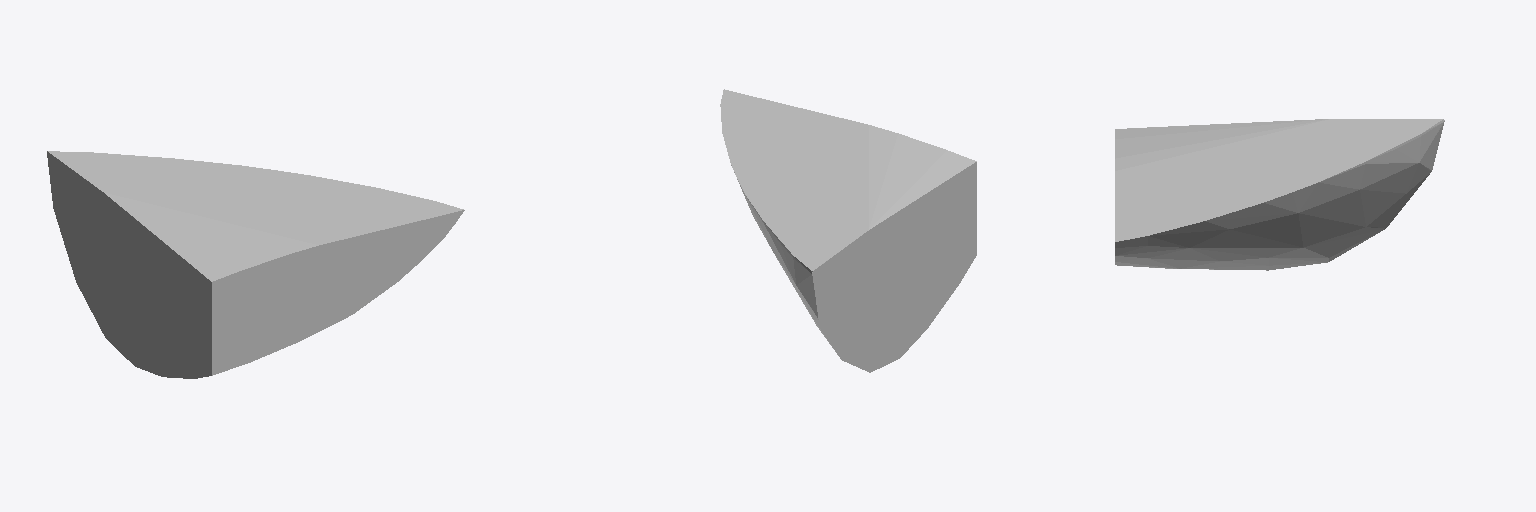
The model's file is phantom-elastrat_collision_105.obj.
3 renders of one model, left to right at view 1: azimuth 30°, elevation 25°; view 2: azimuth 150°, elevation 25°; view 3: azimuth 270°, elevation 25°, orthographic.
Size of the model in its own units: 0.0056 by 0.0032 by 0.0063.